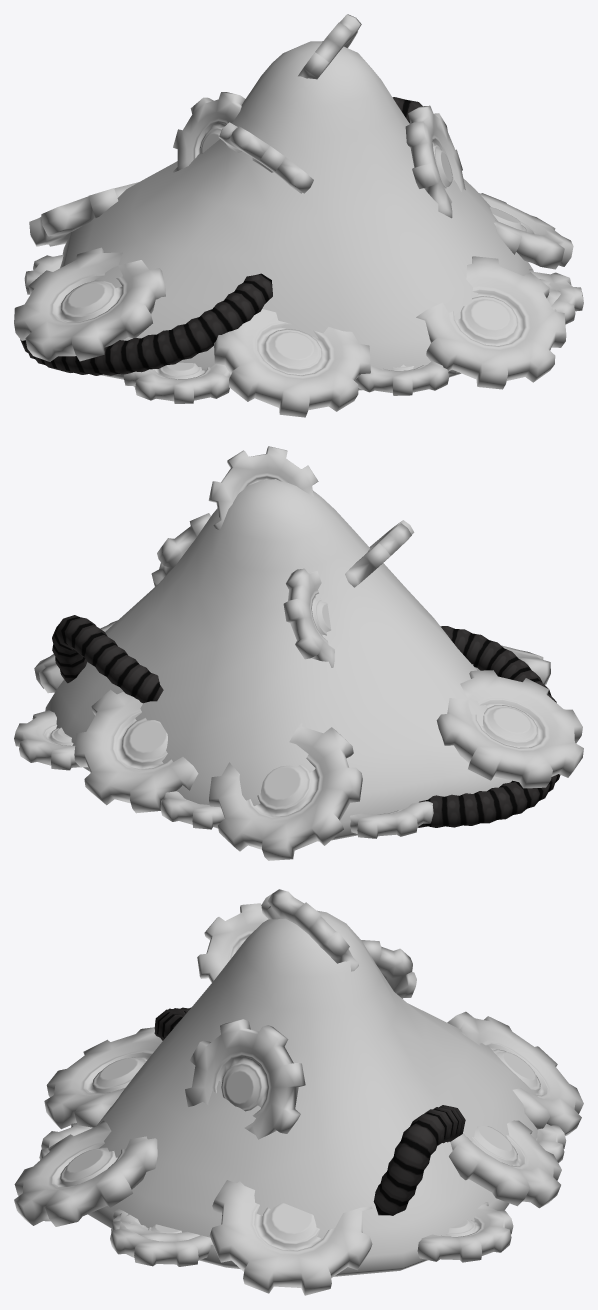
The model's file is cogPile_v1.fbx.
3 views of the same model, one above another, from view 1: azimuth 30°, elevation 25°; view 2: azimuth 150°, elevation 25°; view 3: azimuth 270°, elevation 25° (orthographic). The views are drawn at different scales.
Visible parts, largest first — view 1: cogPile_v1; view 2: cogPile_v1; view 3: cogPile_v1.
Part boxes in pixels (box(x1,y1,x2,y2)): cogPile_v1: box(14, 14, 583, 417); cogPile_v1: box(14, 446, 583, 860); cogPile_v1: box(14, 889, 583, 1295).
Size of the model in its own units: 792 by 417 by 703.
